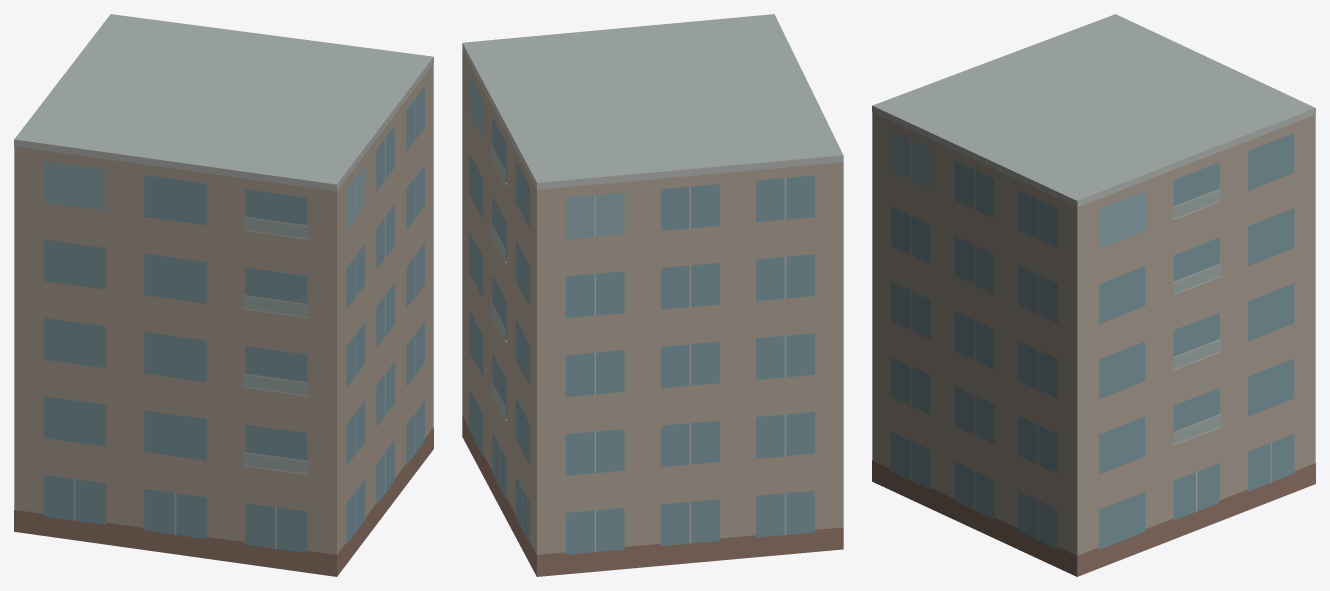
Rendered from survey-upis-32986837.glb.
The picture shows the model from 3 angles, left to right: view 1: azimuth 30°, elevation 25°; view 2: azimuth 150°, elevation 25°; view 3: azimuth 270°, elevation 25°; orthographic projection. The views are drawn at different scales.
Visible parts, largest first — view 1: survey-upis-32986837.tmp; view 2: survey-upis-32986837.tmp; view 3: survey-upis-32986837.tmp.
Part boxes in pixels (<box>): survey-upis-32986837.tmp: <box>14,14,433,576</box>; survey-upis-32986837.tmp: <box>462,14,843,576</box>; survey-upis-32986837.tmp: <box>872,14,1315,576</box>.
Size of the model in its own units: 14.93 by 14 by 14.98.
